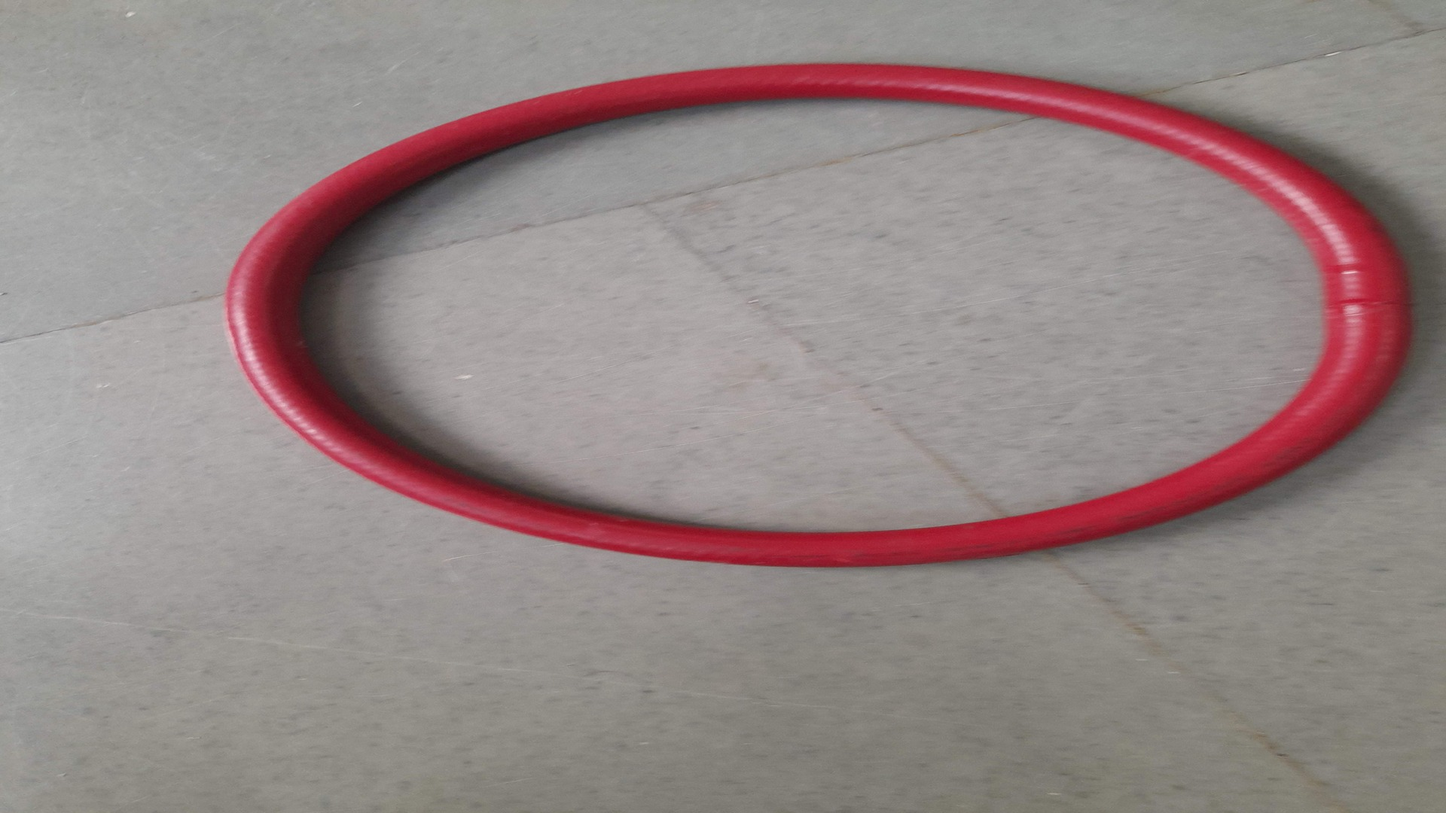Red ring: (224, 62, 1413, 568)
